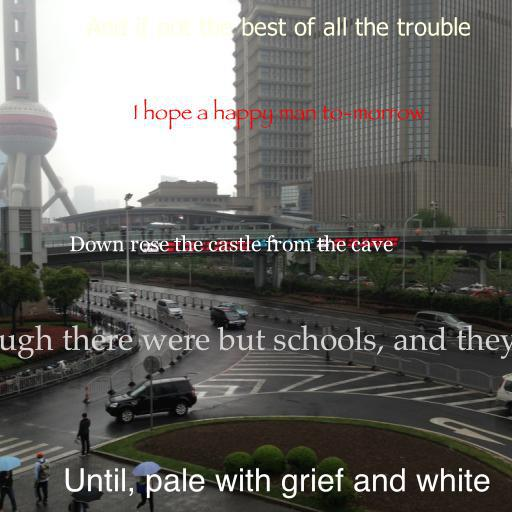Big Caslon: (63, 467, 491, 499)
Georgia: (69, 235, 393, 252)
Palatino: (0, 325, 512, 359)
Papyrus: (132, 98, 424, 130)
Tahoma: (87, 17, 471, 36)
